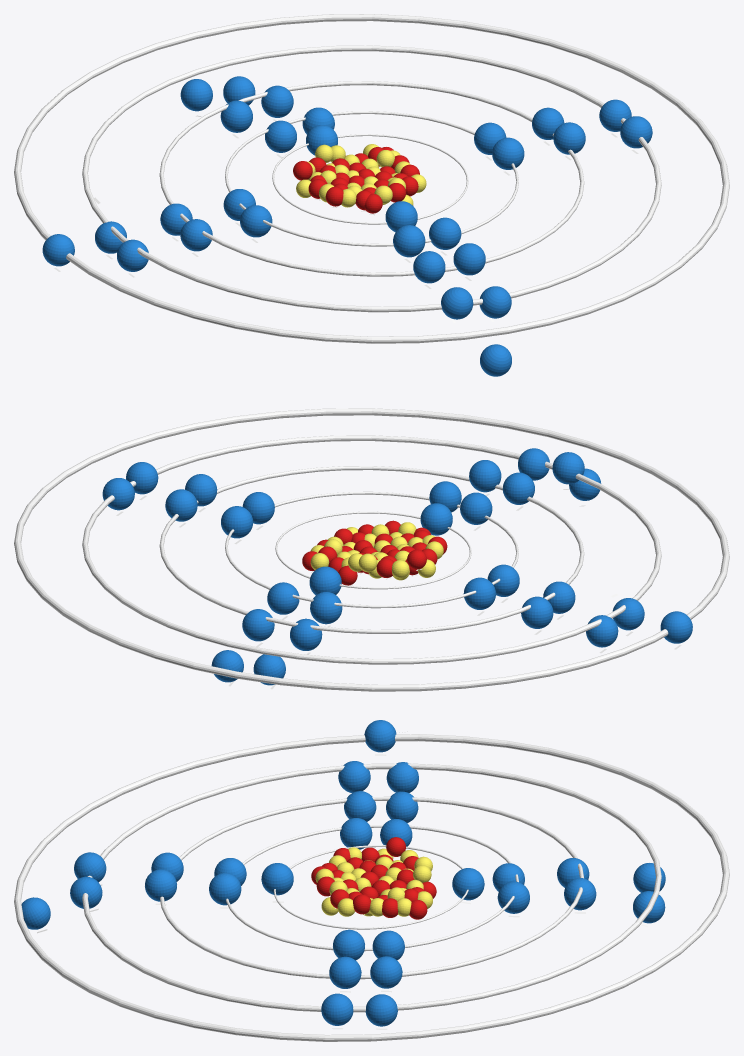
3 views of the same model, one above another, from view 1: azimuth 30°, elevation 25°; view 2: azimuth 150°, elevation 25°; view 3: azimuth 270°, elevation 25° (orthographic).
Parts seen in each view (by area): view 1: Torus.005, Torus.004, Torus.003, Torus.002, Torus.001, g.014, g.015, g.006, g.021, g.007, g.027, g.022 (+20 smaller); view 2: Torus.005, Torus.004, Torus.003, Torus.002, Torus.001, g.015, g.006, g.014, g.009, g.001, g.012, g.004 (+21 smaller); view 3: Torus.005, Torus.004, Torus.003, Torus.002, Torus.001, g.012, g.025, g.023, g.013, g.001, g.026, g (+21 smaller).
Boxes of the visible parts, left/top/right/bottom form: Torus.005: left=14, top=14, right=729, bottom=343; Torus.004: left=82, top=45, right=661, bottom=312; Torus.003: left=159, top=81, right=584, bottom=276; Torus.002: left=225, top=111, right=518, bottom=246; Torus.001: left=272, top=134, right=468, bottom=224; g.014: left=413, top=251, right=445, bottom=283; g.015: left=453, top=243, right=485, bottom=275; g.006: left=393, top=225, right=425, bottom=257; g.021: left=180, top=79, right=212, bottom=111; g.007: left=429, top=217, right=461, bottom=249; g.027: left=480, top=344, right=511, bottom=376; g.022: left=441, top=287, right=473, bottom=319; Torus.005: left=14, top=408, right=729, bottom=691; Torus.004: left=82, top=435, right=661, bottom=664; Torus.003: left=159, top=466, right=584, bottom=633; Torus.002: left=225, top=491, right=518, bottom=608; Torus.001: left=275, top=511, right=471, bottom=589; g.015: left=469, top=460, right=501, bottom=492; g.006: left=460, top=492, right=492, bottom=524; g.014: left=502, top=472, right=534, bottom=504; g.009: left=267, top=582, right=299, bottom=614; g.001: left=420, top=503, right=452, bottom=535; g.012: left=165, top=489, right=197, bottom=521; g.004: left=221, top=506, right=253, bottom=538; Torus.005: left=14, top=734, right=729, bottom=1041; Torus.004: left=82, top=763, right=661, bottom=1012; Torus.003: left=160, top=796, right=583, bottom=979; Torus.002: left=226, top=825, right=518, bottom=951; Torus.001: left=274, top=845, right=468, bottom=929; g.012: left=370, top=956, right=402, bottom=988; g.025: left=365, top=994, right=397, bottom=1026; g.023: left=321, top=993, right=353, bottom=1025; g.013: left=329, top=956, right=361, bottom=988; g.001: left=261, top=863, right=293, bottom=895; g.026: left=364, top=720, right=396, bottom=752; g: left=452, top=868, right=484, bottom=900.
Bounding box in the file's own units: 22.37 × 3.3 × 21.89.
